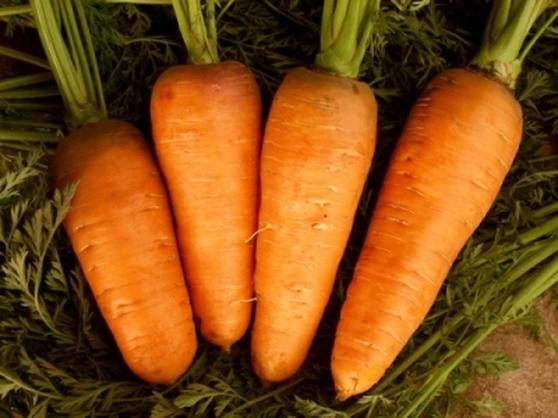carrot: (256, 64, 378, 397), (53, 112, 199, 381), (150, 59, 266, 345)
